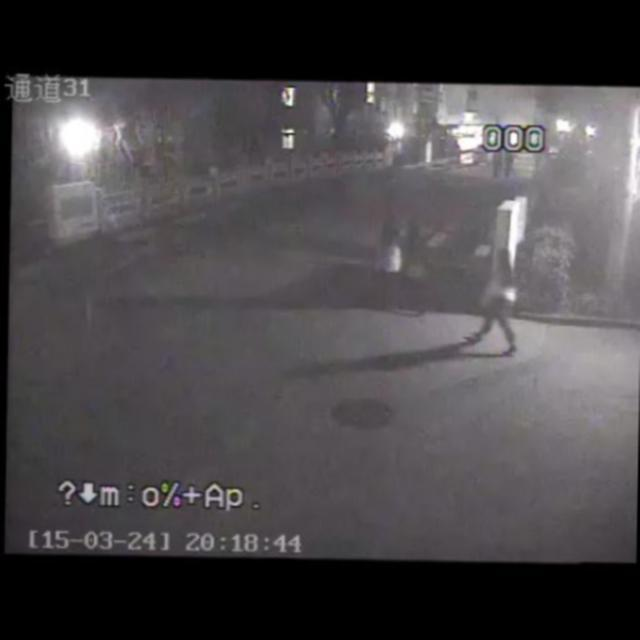person: (458, 240, 524, 360), (400, 220, 450, 318), (372, 216, 408, 316), (498, 153, 516, 190), (488, 151, 502, 187)
